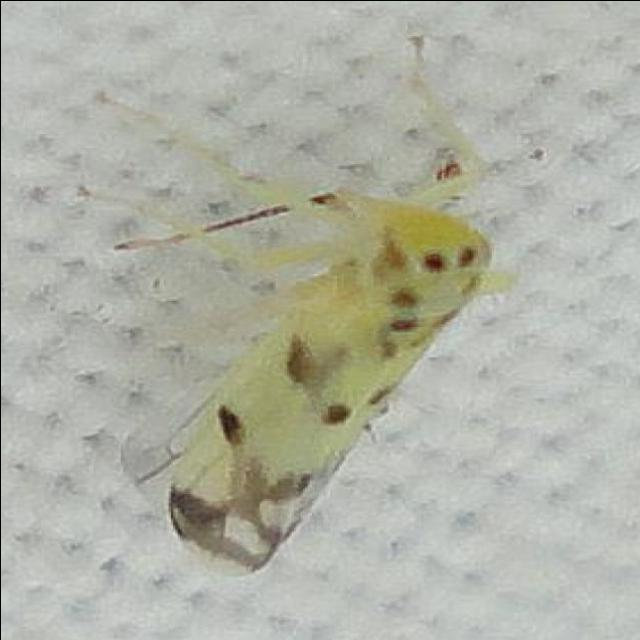green leaf hopper: (117, 146, 505, 572)
